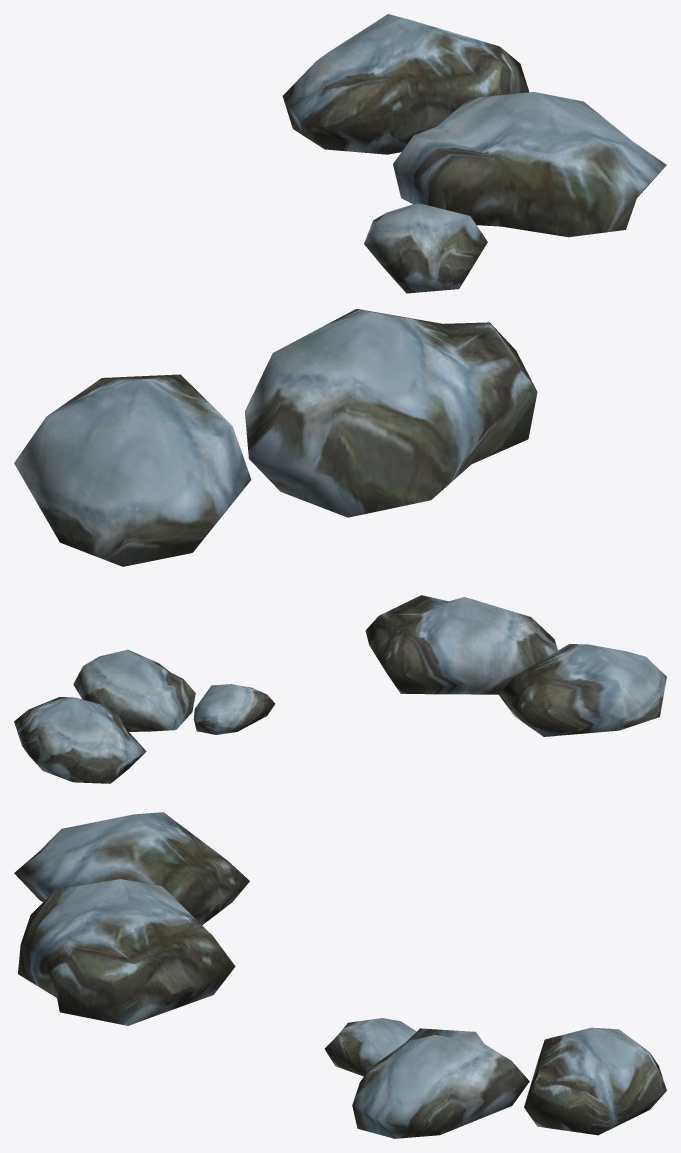
The model's file is environment_stone_xue_006.FBX.
3 renders of one model, top to bottom at view 1: azimuth 30°, elevation 25°; view 2: azimuth 150°, elevation 25°; view 3: azimuth 270°, elevation 25°, orthographic. The views are drawn at different scales.
Parts seen in each view (by area): view 1: environment_stone_xue_006_01, environment_stone_xue_006_03; view 2: environment_stone_xue_006_01, environment_stone_xue_006_03; view 3: environment_stone_xue_006_01, environment_stone_xue_006_03.
Part boxes in pixels (x1,y1,x2,y2): environment_stone_xue_006_01: (14,309,537,566); environment_stone_xue_006_03: (282,14,666,293); environment_stone_xue_006_01: (365,595,666,736); environment_stone_xue_006_03: (14,649,275,783); environment_stone_xue_006_01: (14,812,249,1025); environment_stone_xue_006_03: (324,1018,666,1138).
Bounding box in the file's own units: 438 × 420 × 76.94.
Materials: 1 (1 with a texture image).
